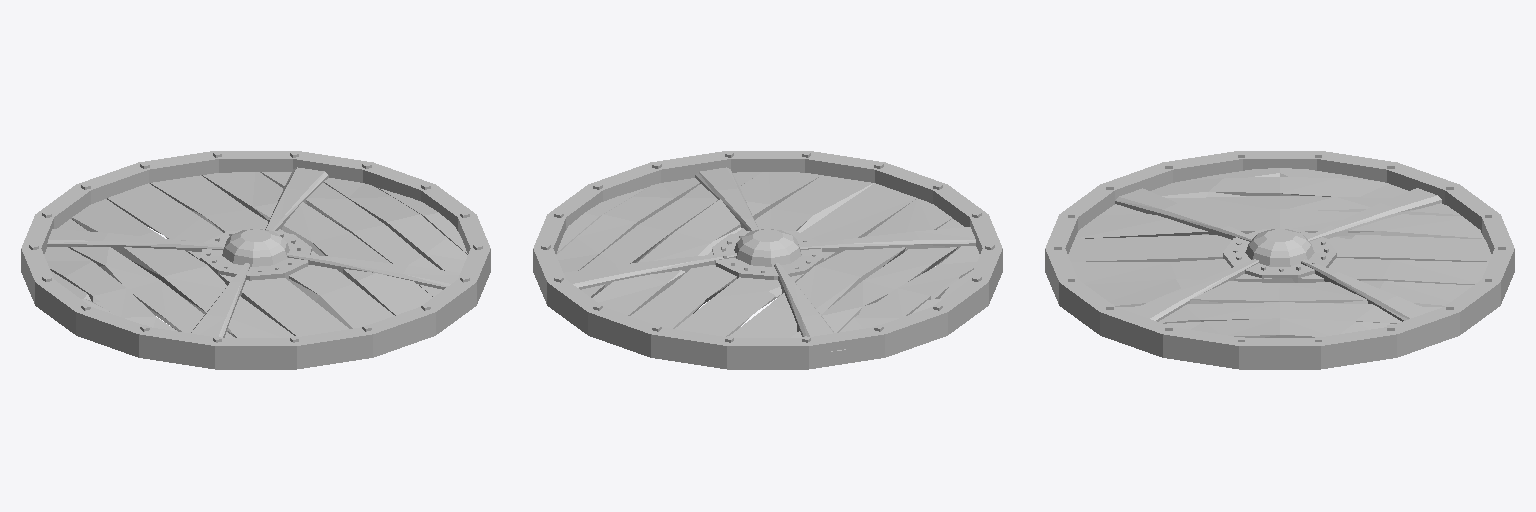
Rendered from Shield_1.obj.
The picture shows the model from 3 angles: view 1: azimuth 30°, elevation 25°; view 2: azimuth 150°, elevation 25°; view 3: azimuth 270°, elevation 25°; orthographic projection.
Parts seen in each view (by area): view 1: Shield_1; view 2: Shield_1; view 3: Shield_1.
Boxes of the visible parts, box(x1,y1,x2,y2) form: Shield_1: box(21, 151, 490, 369); Shield_1: box(533, 151, 1002, 369); Shield_1: box(1045, 151, 1514, 369).
Size of the model in its own units: 0.9046 by 0.0877 by 0.9186.